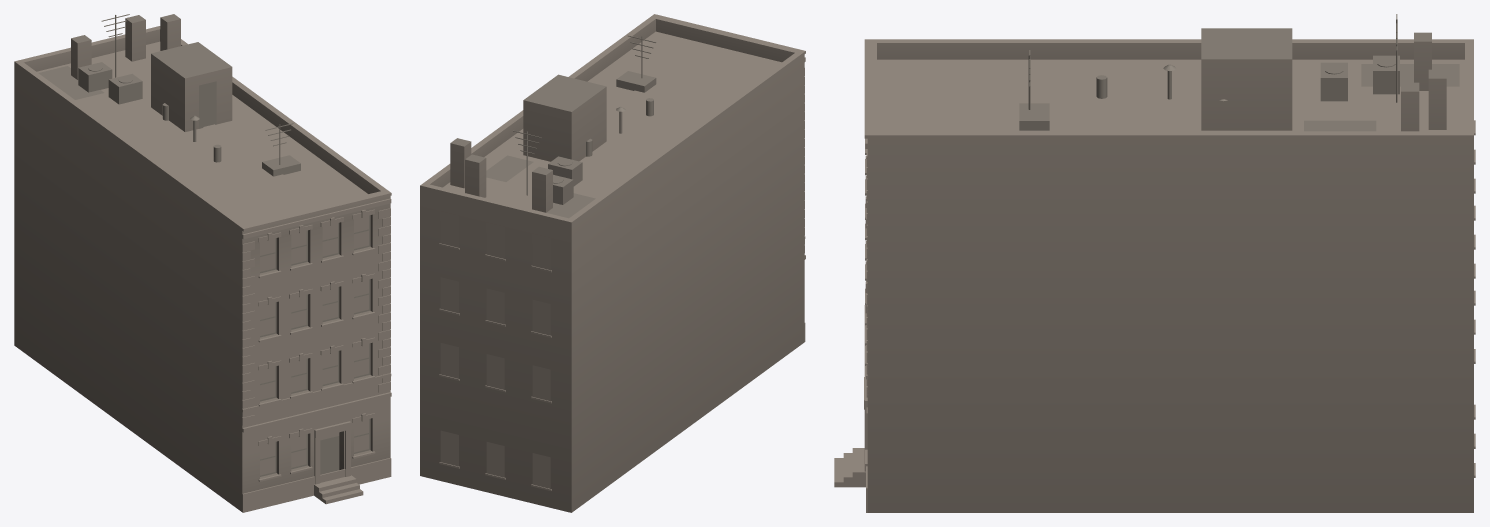
The model's file is tenement_h.glb.
The picture shows the model from 3 angles, left to right: view 1: azimuth 30°, elevation 25°; view 2: azimuth 150°, elevation 25°; view 3: azimuth 270°, elevation 25°; orthographic projection. The views are drawn at different scales.
Visible parts, largest first — view 1: tenement_h; view 2: tenement_h; view 3: tenement_h.
Part boxes in pixels (bbox=[...]): tenement_h: bbox=[14, 14, 391, 512]; tenement_h: bbox=[420, 14, 805, 512]; tenement_h: bbox=[834, 14, 1475, 512].
Size of the model in its own units: 7.5 by 16.17 by 21.15.
